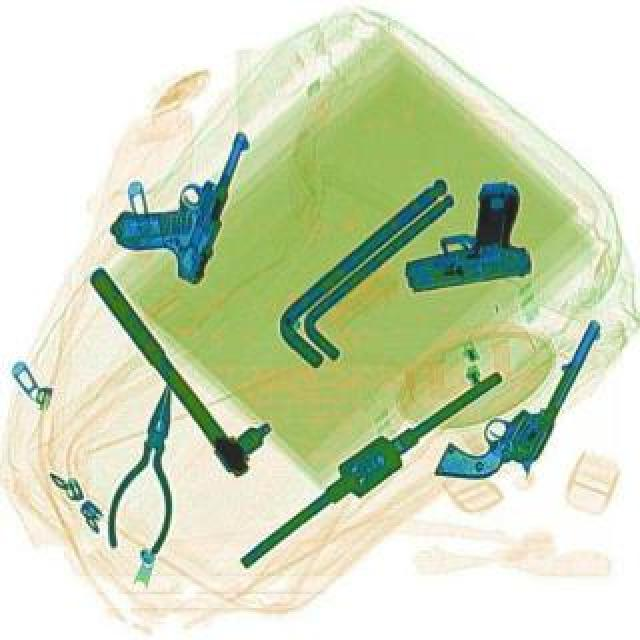gun: (434, 288, 606, 506), (102, 104, 258, 286), (394, 178, 538, 292)
wrench: (102, 372, 202, 556)
